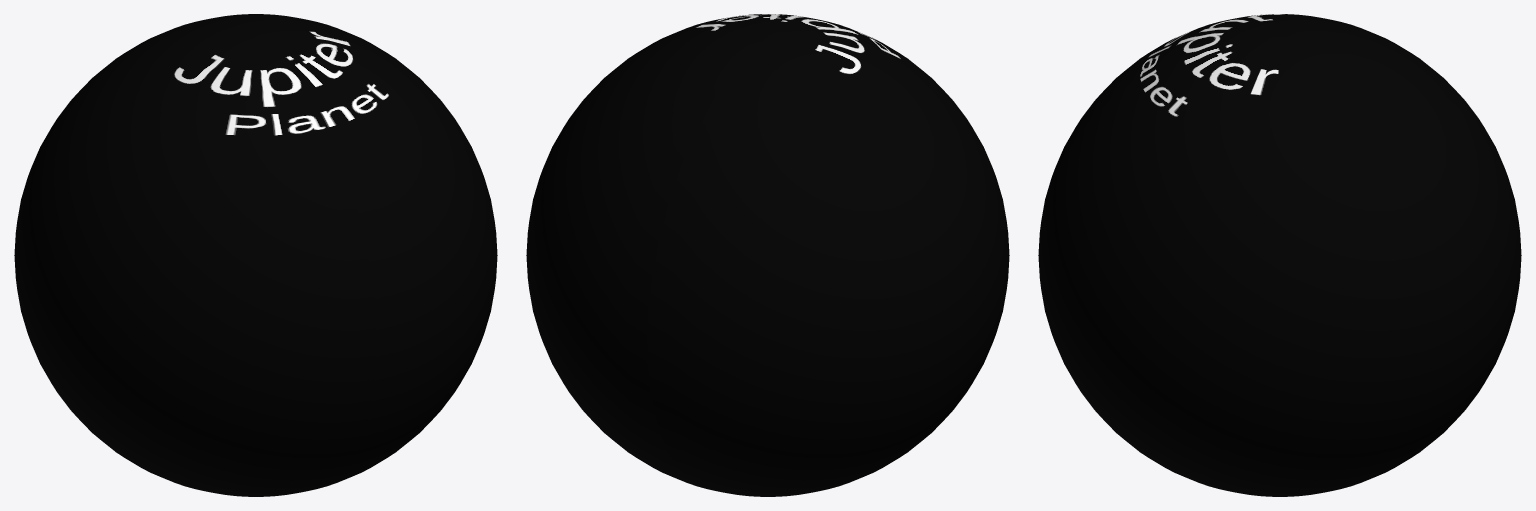
The model's file is Jupiter_planet.fbx.
3 views of the same model, side by side, from view 1: azimuth 30°, elevation 25°; view 2: azimuth 150°, elevation 25°; view 3: azimuth 270°, elevation 25° (orthographic).
Parts seen in each view (by area): view 1: Jupiter2, Jupiter1; view 2: Jupiter2, Jupiter1; view 3: Jupiter1, Jupiter2.
Part boxes in pixels (<box>): Jupiter2: <box>14,19,376,496</box>; Jupiter1: <box>201,14,497,488</box>; Jupiter2: <box>647,19,1009,496</box>; Jupiter1: <box>526,14,822,488</box>; Jupiter1: <box>1038,36,1521,496</box>; Jupiter2: <box>1040,14,1519,228</box>.
Bounding box in the file's own units: 60.3 × 60.3 × 60.3.
